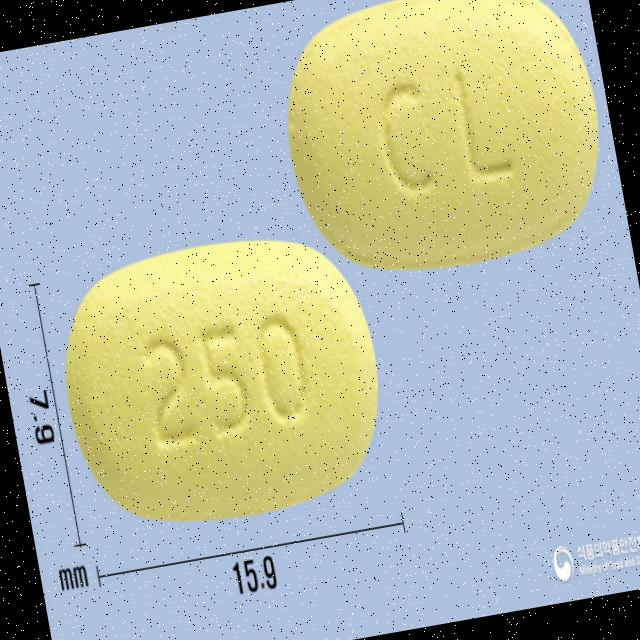Clao: (40, 212, 409, 554), (261, 0, 624, 295)
